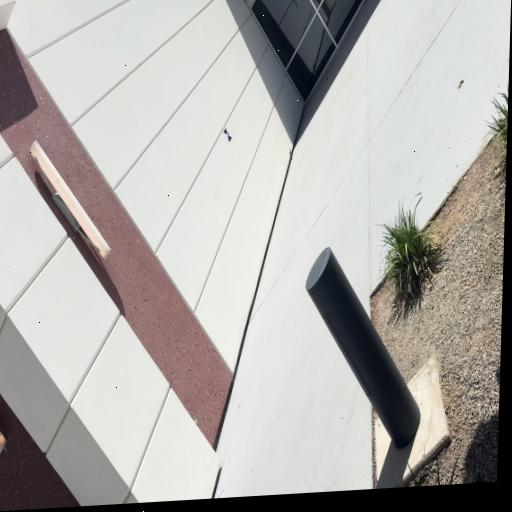target4: (223, 127, 232, 143)
